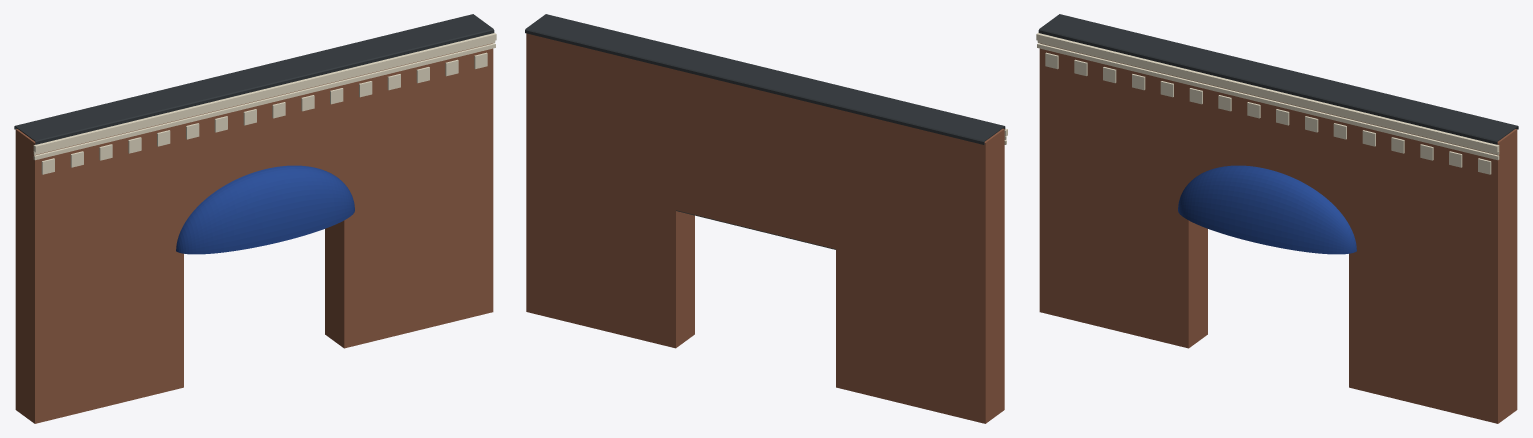
The model's file is storefront-entry-arcaded-brick.glb.
The picture shows the model from 3 angles, left to right: view 1: azimuth 30°, elevation 25°; view 2: azimuth 150°, elevation 25°; view 3: azimuth 330°, elevation 25°; orthographic projection.
Visible parts, largest first — view 1: arcaded-brick-FacadeBrick, arcaded-brick-FacadeCoping, arcaded-brick-FacadeCanopy, arcaded-brick-FacadeTrim; view 2: arcaded-brick-FacadeBrick, arcaded-brick-FacadeCoping; view 3: arcaded-brick-FacadeBrick, arcaded-brick-FacadeCoping, arcaded-brick-FacadeCanopy, arcaded-brick-FacadeTrim.
Boxes of the visible parts, box(x1,y1,x2,y2) form: arcaded-brick-FacadeBrick: box(15, 43, 493, 423); arcaded-brick-FacadeCoping: box(14, 14, 494, 144); arcaded-brick-FacadeCanopy: box(176, 165, 354, 254); arcaded-brick-FacadeTrim: box(33, 33, 496, 174); arcaded-brick-FacadeBrick: box(526, 33, 1004, 423); arcaded-brick-FacadeCoping: box(525, 14, 1005, 144); arcaded-brick-FacadeBrick: box(1039, 43, 1517, 423); arcaded-brick-FacadeCoping: box(1038, 14, 1518, 144); arcaded-brick-FacadeCanopy: box(1178, 165, 1356, 254); arcaded-brick-FacadeTrim: box(1036, 33, 1499, 174).
Bounding box in the file's own units: 31.96 × 18.78 × 4.54.
